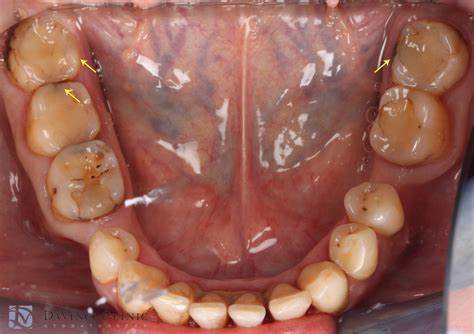LL1BC_decay: (329, 225, 378, 277)
LL1M_decay: (372, 93, 447, 167)
LL2BC_decay: (343, 183, 403, 232)
LL2M_decay: (395, 21, 468, 91)
LLCI_healthy: (228, 294, 265, 325)
LLC_healthy: (299, 263, 347, 309)
LLLI_healthy: (269, 285, 311, 319)
LR1BC_decay: (89, 229, 138, 279)
LR1M_decay: (28, 82, 98, 151)
LR2BC_decay: (48, 141, 124, 221)
LR2M_decay: (7, 14, 81, 87)
LRCI_healthy: (189, 294, 227, 328)
LRC_decay: (117, 261, 160, 310)
LRLI_decay: (154, 281, 191, 323)
